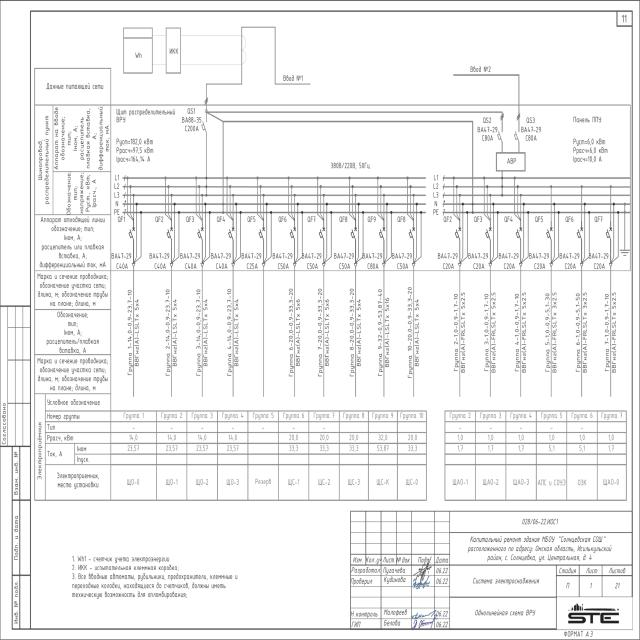-: (115, 108, 176, 125), (437, 250, 458, 270), (362, 251, 383, 271), (210, 251, 232, 270), (528, 252, 550, 271), (272, 252, 294, 271), (302, 252, 322, 272), (149, 251, 170, 270), (111, 251, 132, 270), (391, 251, 412, 270), (180, 252, 201, 271), (588, 250, 609, 269), (334, 252, 355, 271), (468, 252, 489, 271), (498, 252, 519, 271), (181, 115, 203, 133), (242, 252, 262, 271), (560, 252, 580, 271), (520, 125, 542, 142), (476, 124, 498, 140)
AVR: (483, 116, 536, 175)
QF: (201, 96, 209, 134), (196, 226, 204, 244), (227, 226, 235, 244), (545, 224, 553, 241), (350, 225, 358, 242), (258, 226, 266, 243), (378, 226, 386, 243), (166, 225, 174, 242), (319, 225, 327, 242), (576, 225, 584, 242), (128, 225, 136, 242), (605, 226, 613, 243), (409, 224, 416, 242), (485, 226, 492, 244), (290, 226, 297, 244), (455, 225, 462, 242), (516, 226, 523, 243)
